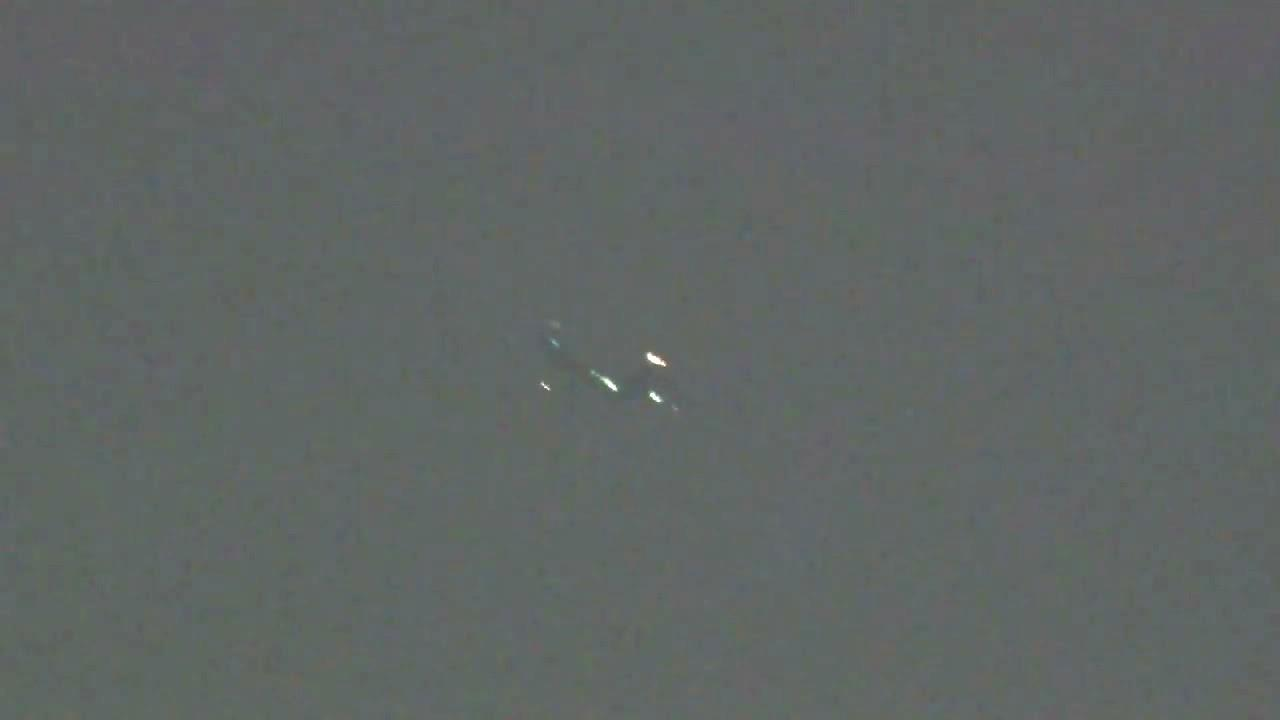Plane: (508, 324, 738, 449)
